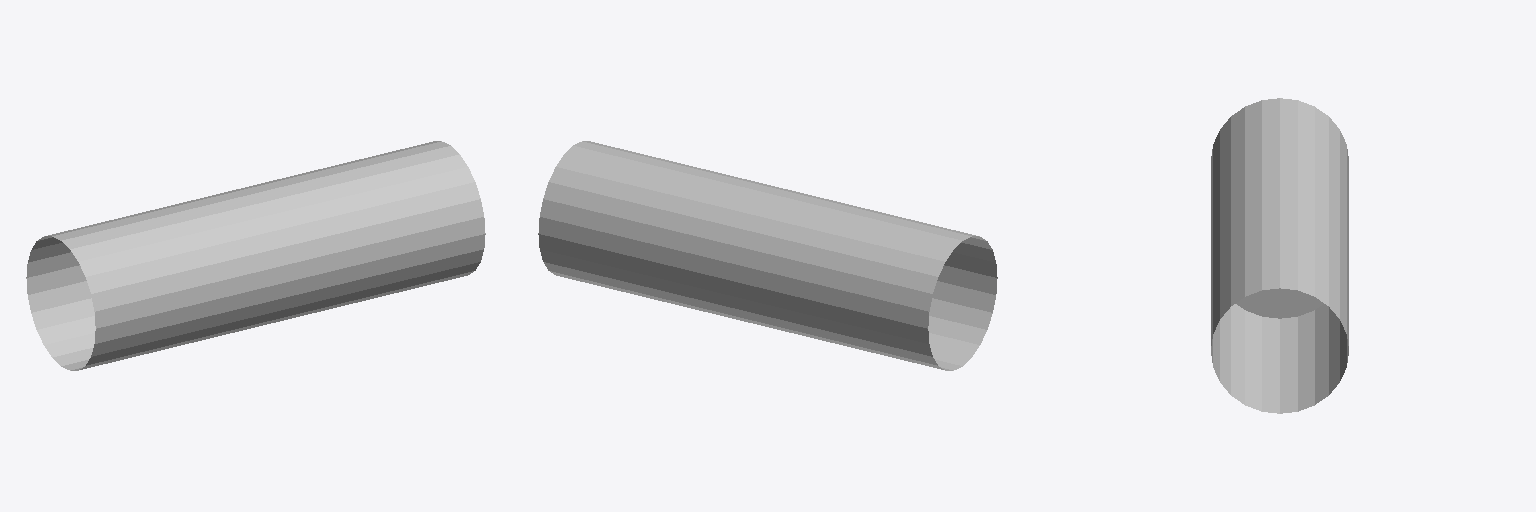
Rendered from original-216.obj.
3 views of the same model, side by side, from view 1: azimuth 30°, elevation 25°; view 2: azimuth 150°, elevation 25°; view 3: azimuth 270°, elevation 25° (orthographic).
Visible parts, largest first — view 1: #ID1330; view 2: #ID1330; view 3: #ID1330.
Part boxes in pixels (x1,y1,x2,y2): #ID1330: (26,141,485,370); #ID1330: (538,141,997,370); #ID1330: (1211,98,1348,413).
Size of the model in its own units: 0.0196 by 0.006 by 0.006.